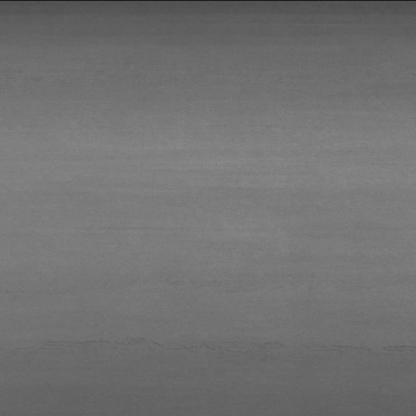silk_spot: (45, 329, 397, 379)
